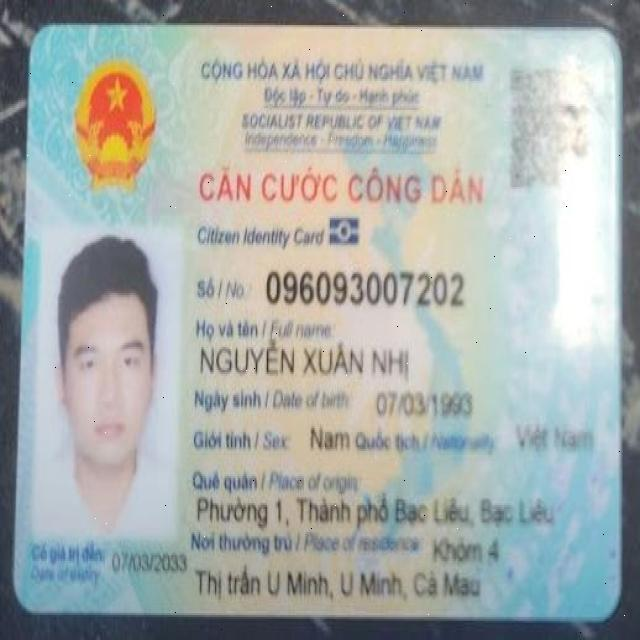current_place: (194, 560, 484, 602), (427, 536, 504, 568)
dob: (372, 389, 477, 423)
expire_date: (109, 546, 189, 578)
gender: (307, 420, 352, 456)
id: (262, 263, 467, 321)
name: (194, 341, 415, 387)
nationality: (510, 410, 597, 463)
origin_place: (187, 493, 557, 530)
